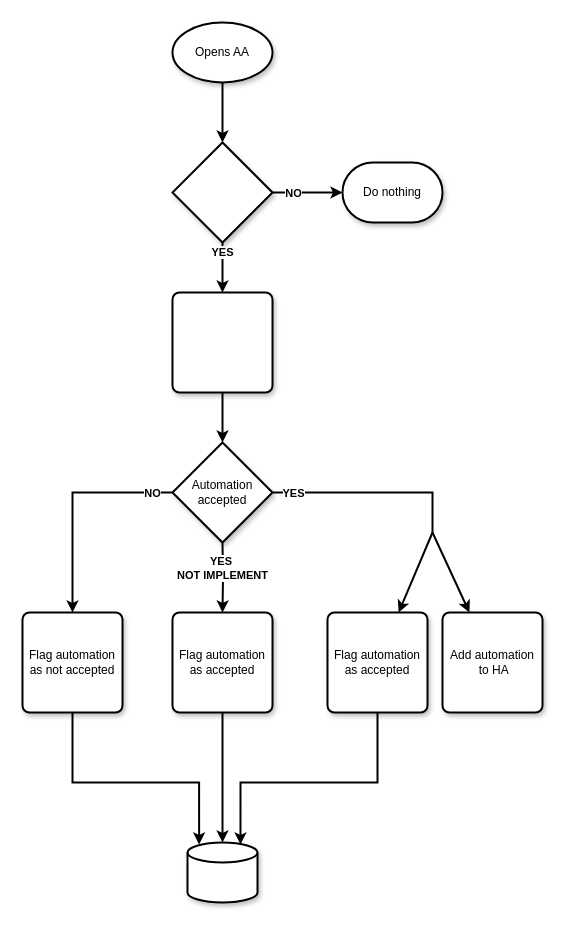
This 566x927 diagram has some shape labels left out. The shapes that lost their labels are listed below. From the top down, each one's centre as x and y in pixels, then its label:
(223,193): Automation generated?
(223,343): Show automation ask feedback
(223,873): Write in DB
